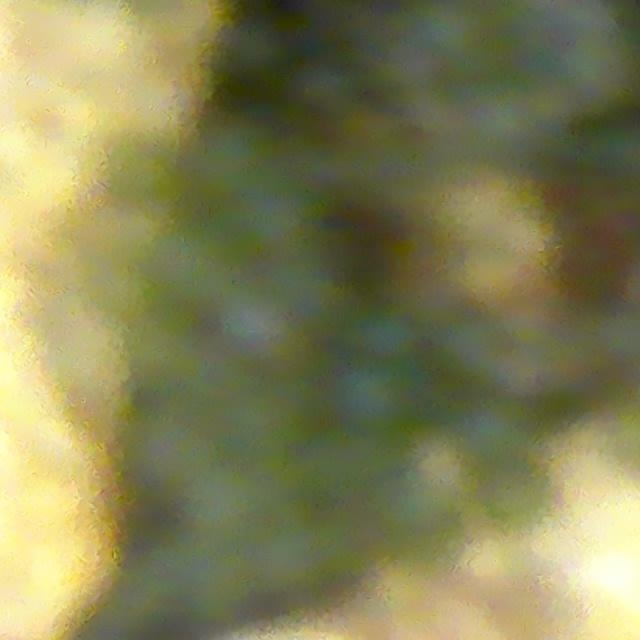SeaGrape: (335, 356, 417, 433)
